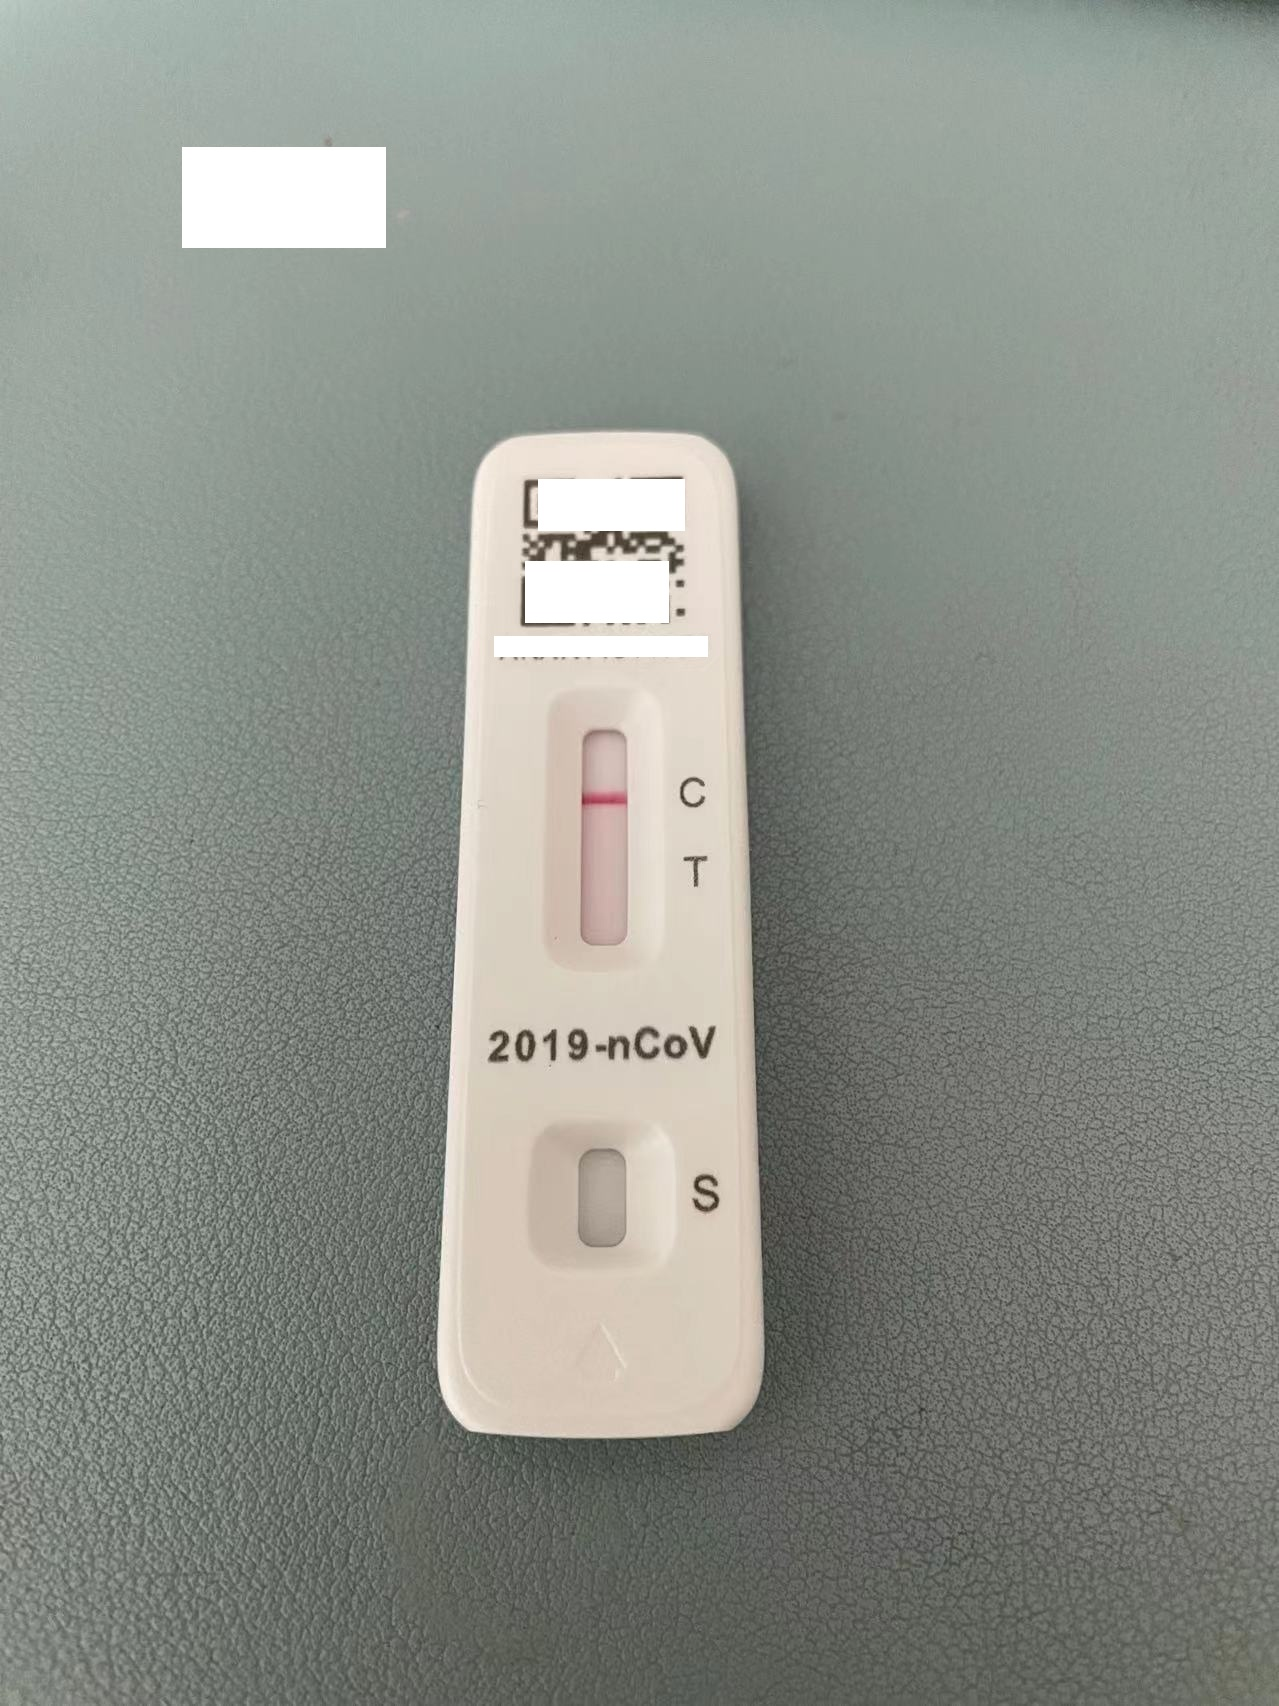negative: (545, 688, 660, 977)
